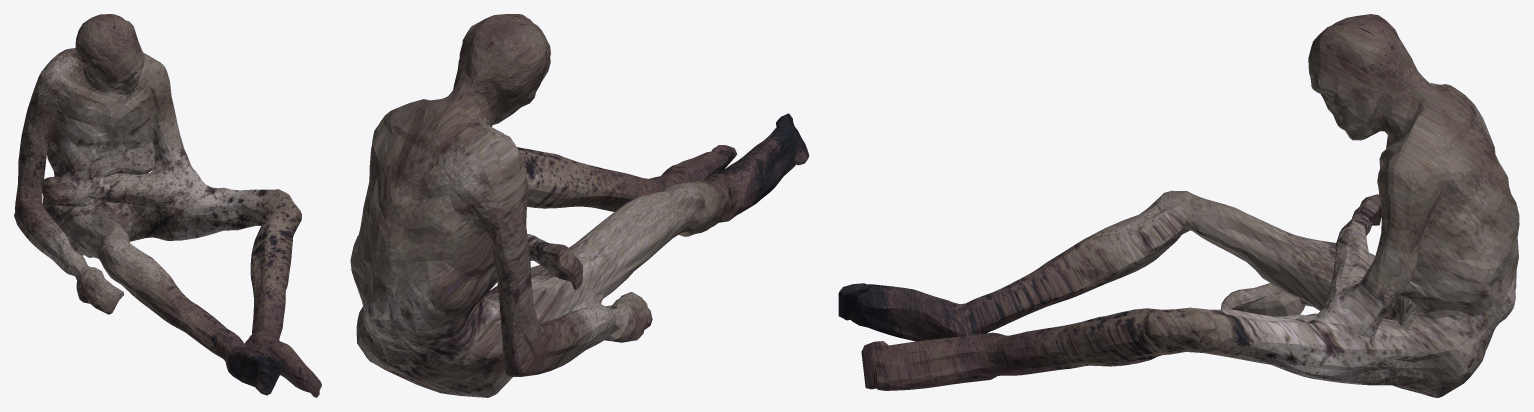
Rendered from Corpse_V01.fbx.
3 views of the same model, side by side, from view 1: azimuth 30°, elevation 25°; view 2: azimuth 150°, elevation 25°; view 3: azimuth 270°, elevation 25° (orthographic). The views are drawn at different scales.
Visible parts, largest first — view 1: Corpse; view 2: Corpse; view 3: Corpse.
Boxes of the visible parts, x1,y1,x2,y2 form: Corpse: (14, 14, 321, 397); Corpse: (350, 14, 809, 397); Corpse: (838, 14, 1519, 397).
Bounding box in the file's own units: 751 × 934 × 1647.
